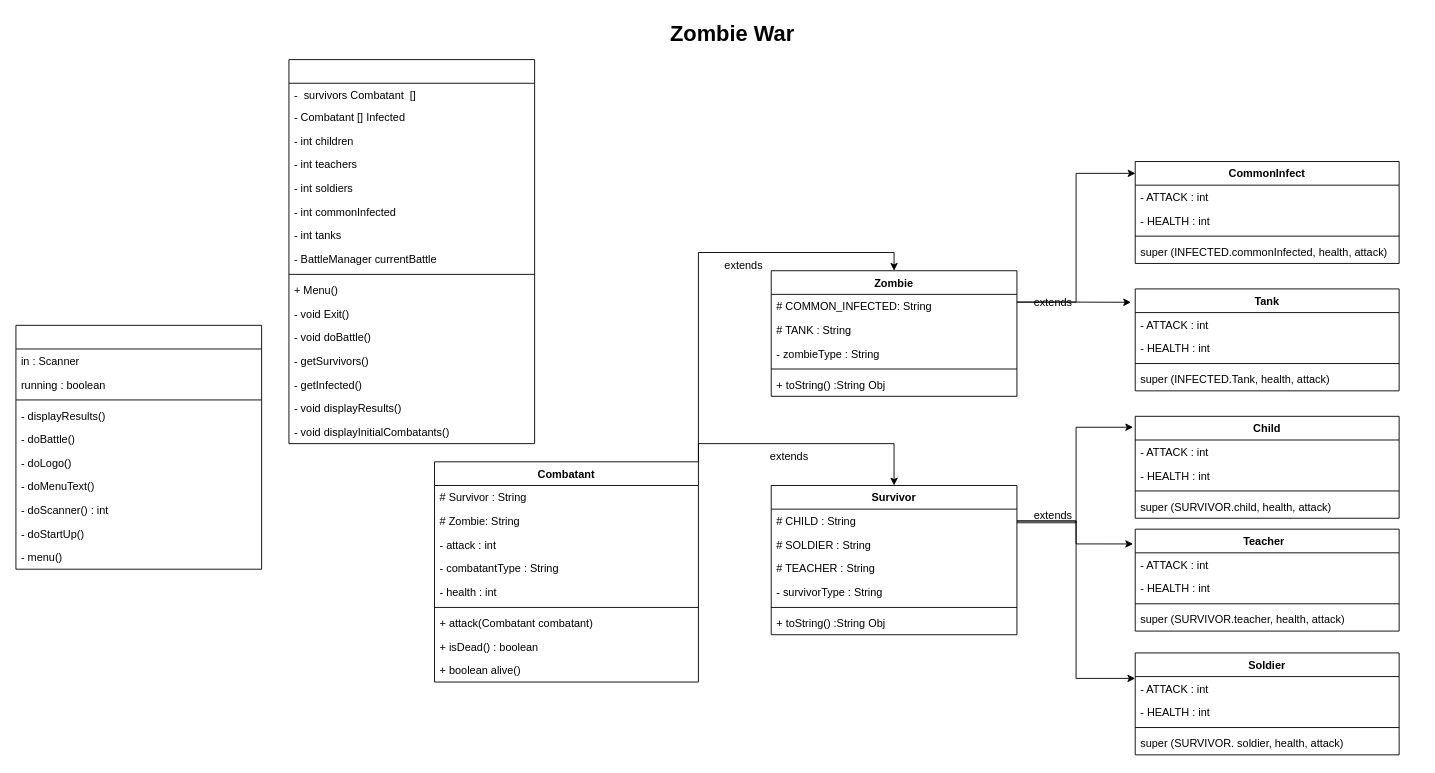
This 1435x773 diagram has some shape labels left out. The shapes that lost their labels are listed below. From the top down, each one's box as (x1, y1, x2, y2) in pixels, then its label:
(288, 59, 535, 444): ZombieWar
(15, 324, 262, 569): Application
